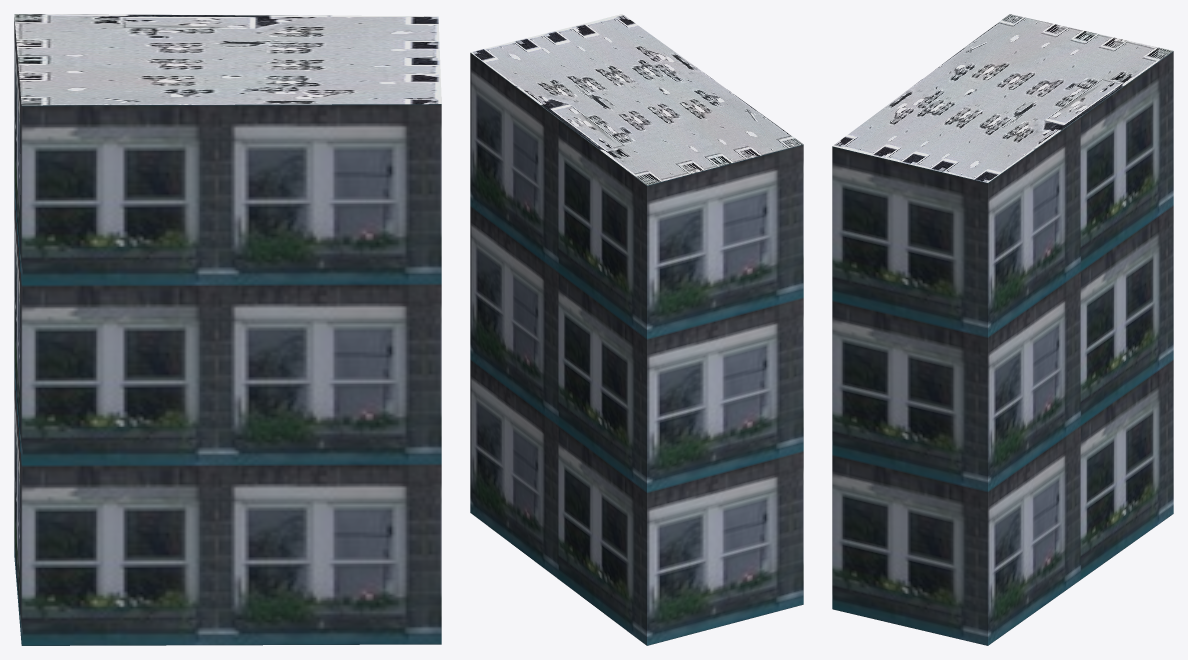
The model's file is ResTex__800.fbx.
3 views of the same model, side by side, from view 1: azimuth 30°, elevation 25°; view 2: azimuth 150°, elevation 25°; view 3: azimuth 270°, elevation 25° (orthographic). The views are drawn at different scales.
Parts seen in each view (by area): view 1: CityEngineMaterial_11_m, CityEngineMaterial_2_m; view 2: CityEngineMaterial_11_m, CityEngineMaterial_2_m; view 3: CityEngineMaterial_11_m, CityEngineMaterial_2_m.
Part boxes in pixels (box(x1,y1,x2,y2)): CityEngineMaterial_11_m: box(14, 17, 441, 645); CityEngineMaterial_2_m: box(14, 14, 441, 105); CityEngineMaterial_11_m: box(470, 53, 803, 645); CityEngineMaterial_2_m: box(470, 14, 803, 185); CityEngineMaterial_11_m: box(832, 51, 1173, 645); CityEngineMaterial_2_m: box(833, 14, 1172, 182).
Bounding box in the file's own units: 7.05 × 9 × 6.01.
2 materials, 2 textured.
